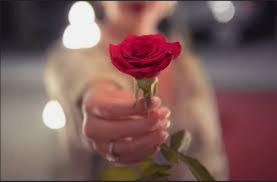RedRose: (108, 34, 182, 78)
